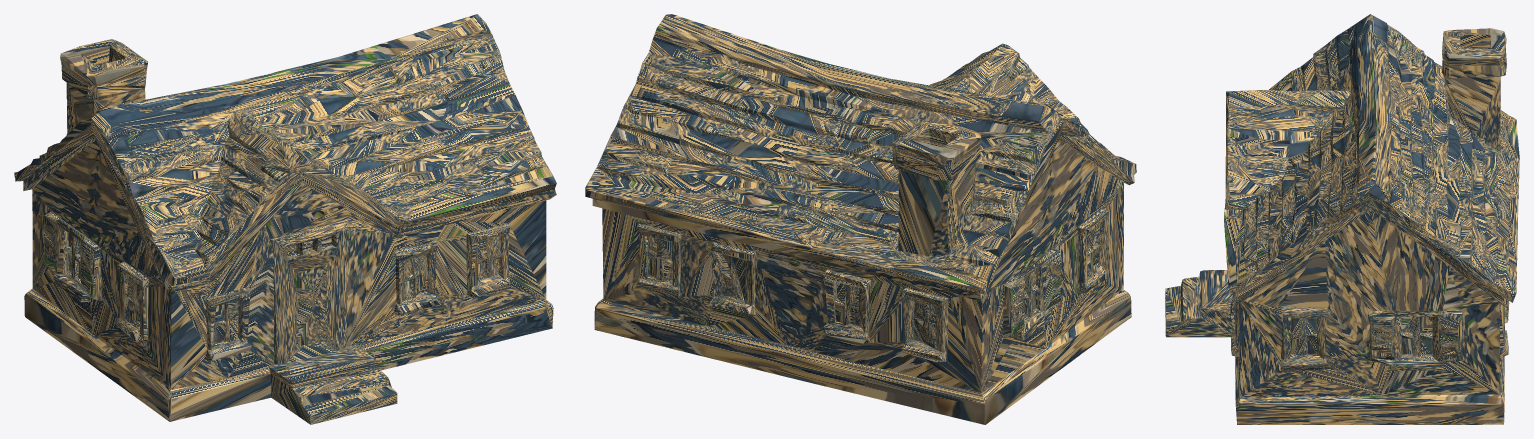
File: town_small_house_1x1_1.glb
The picture shows the model from 3 angles, left to right: view 1: azimuth 30°, elevation 25°; view 2: azimuth 150°, elevation 25°; view 3: azimuth 270°, elevation 25°; orthographic projection. The views are drawn at different scales.
Parts seen in each view (by area): view 1: normalize; view 2: normalize; view 3: normalize.
Part boxes in pixels (x1,y1,x2,y2): normalize: [14, 14, 556, 424]; normalize: [585, 14, 1136, 424]; normalize: [1165, 14, 1519, 424].
Bounding box in the file's own units: 1 × 0.6307 × 0.8384.
1 material, 1 textured.
